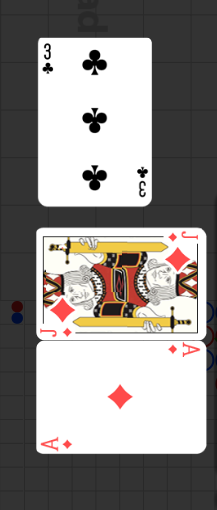3C: (41, 43, 55, 77), (135, 164, 149, 198)
AD: (165, 342, 201, 359)
